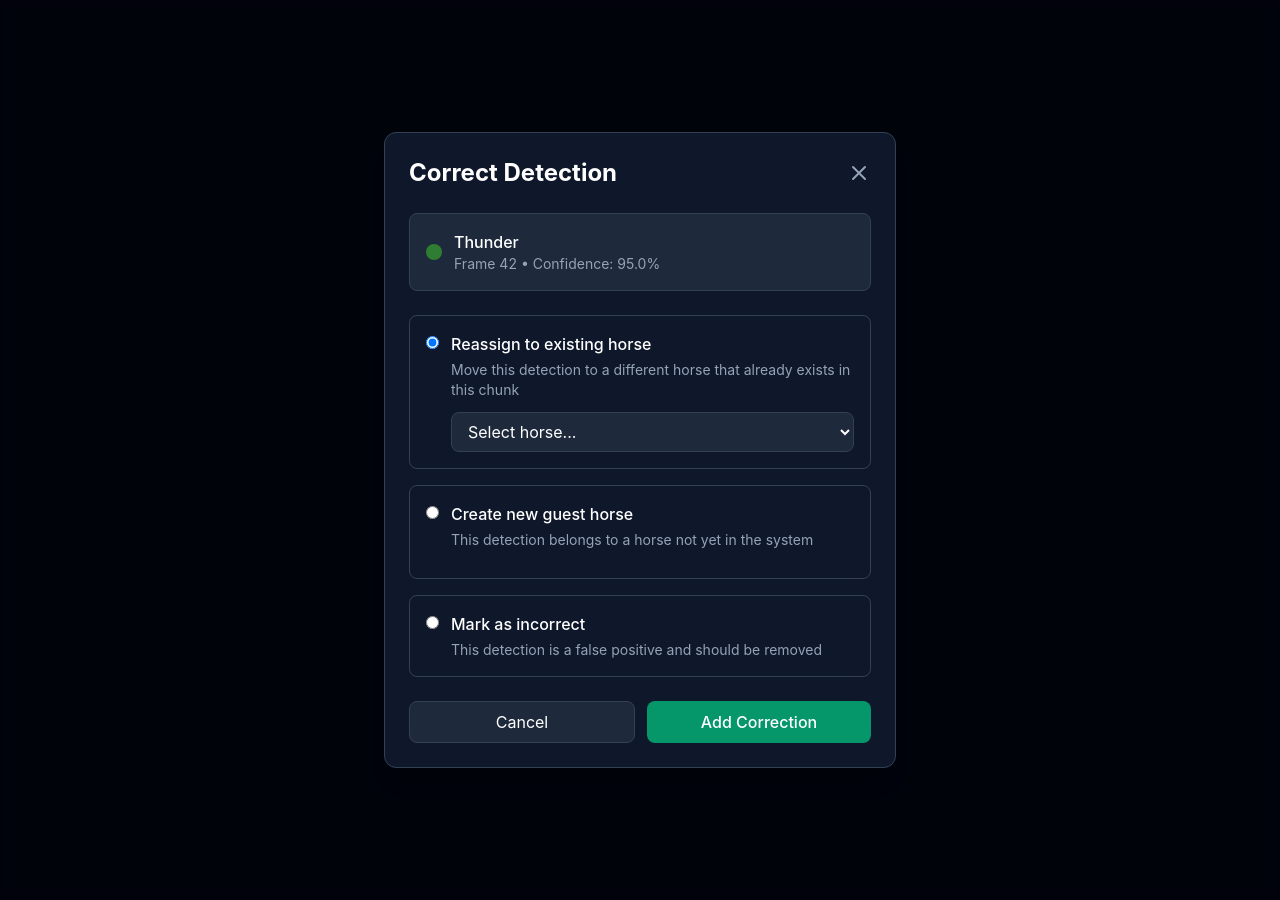
Test: DetectionCorrectionModal › shows confirmation dialog for mark incorrect
Click the radio button labelled "Mark as incorrect" at {"x": 432, "y": 622}, box [426,616,439,629]
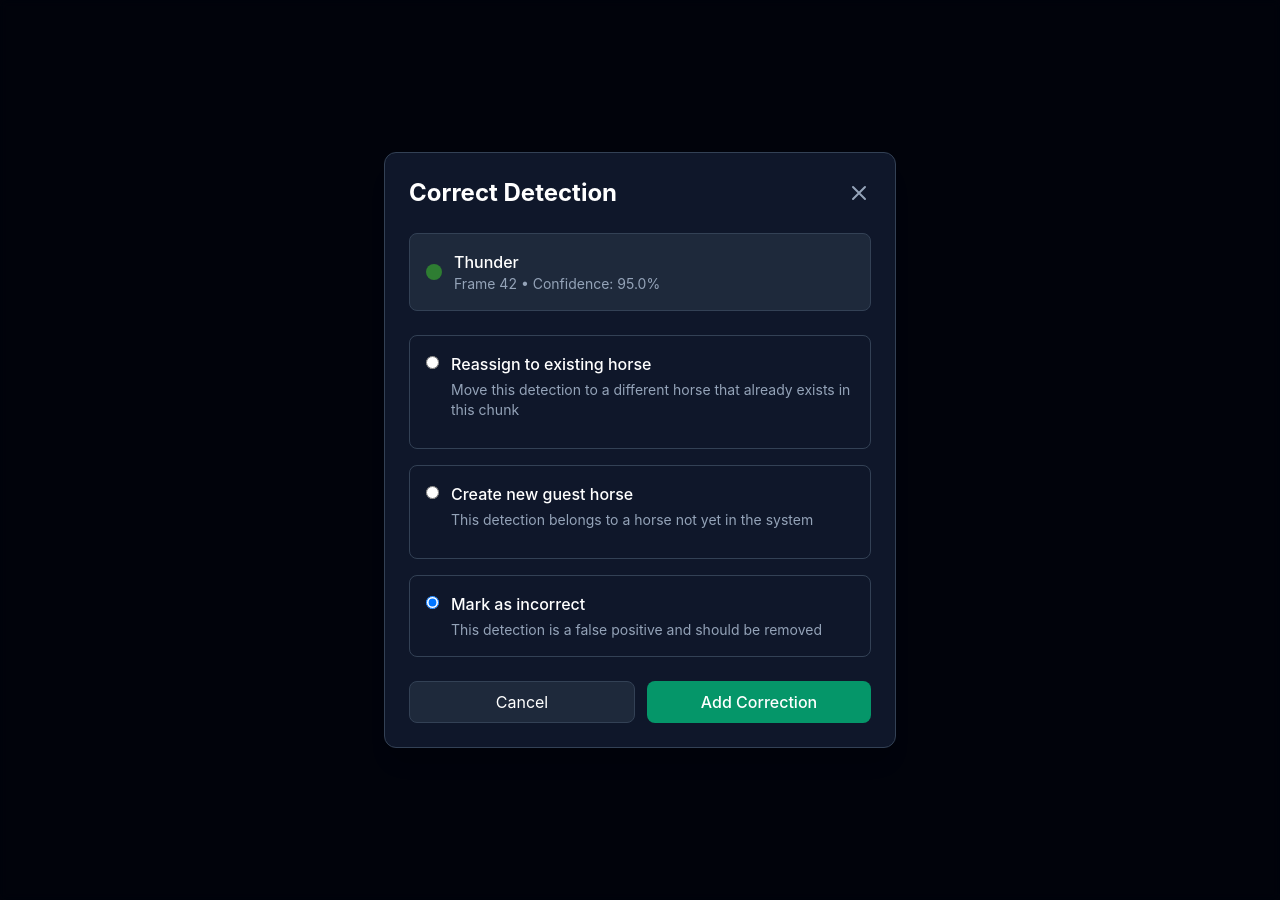
Click the button "Add Correction" at {"x": 759, "y": 702}, box [647,681,871,723]
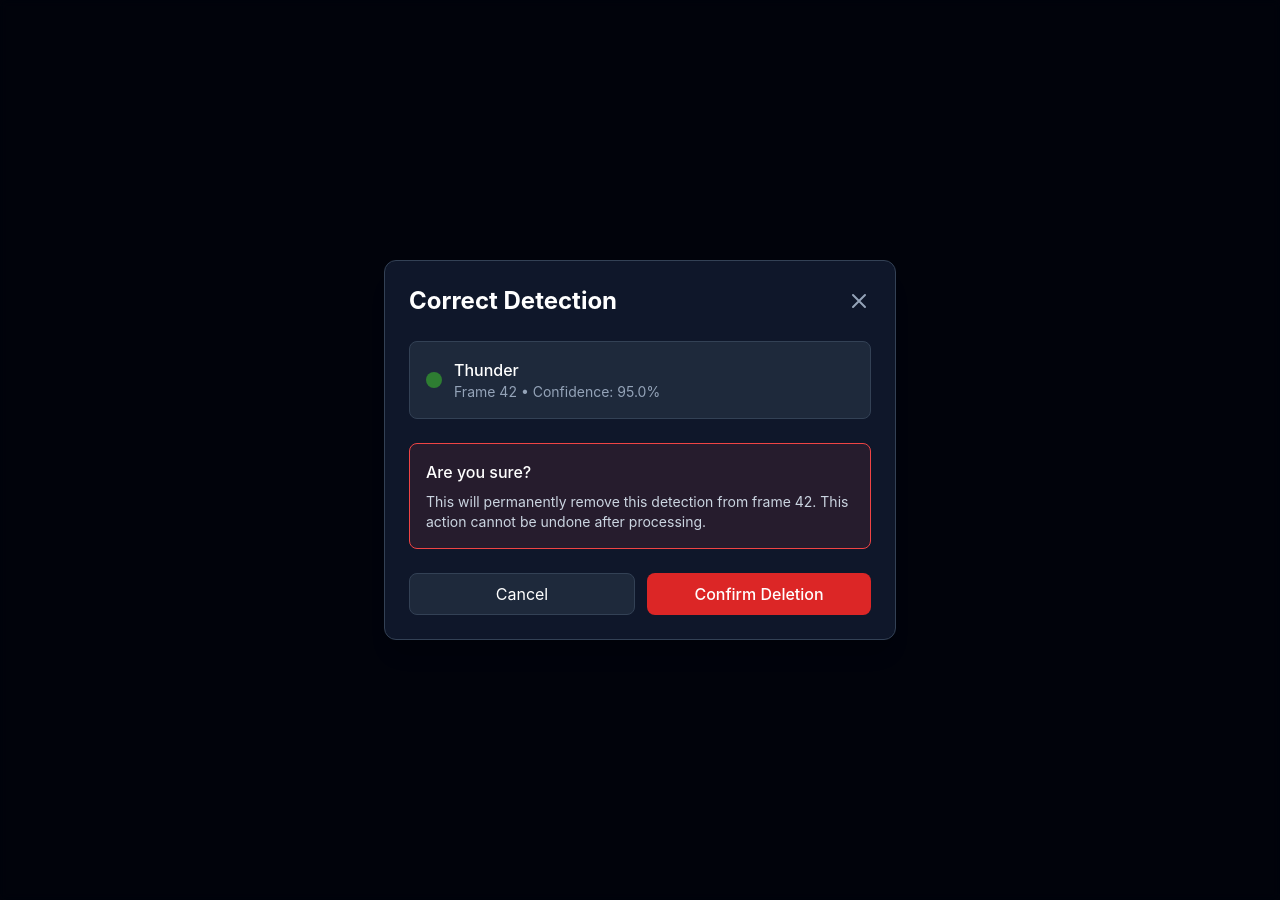
Result: the text "Are you sure?" is shown at [426,462,531,482]
Result: the button "Confirm Deletion" is shown at [647,573,871,615]
